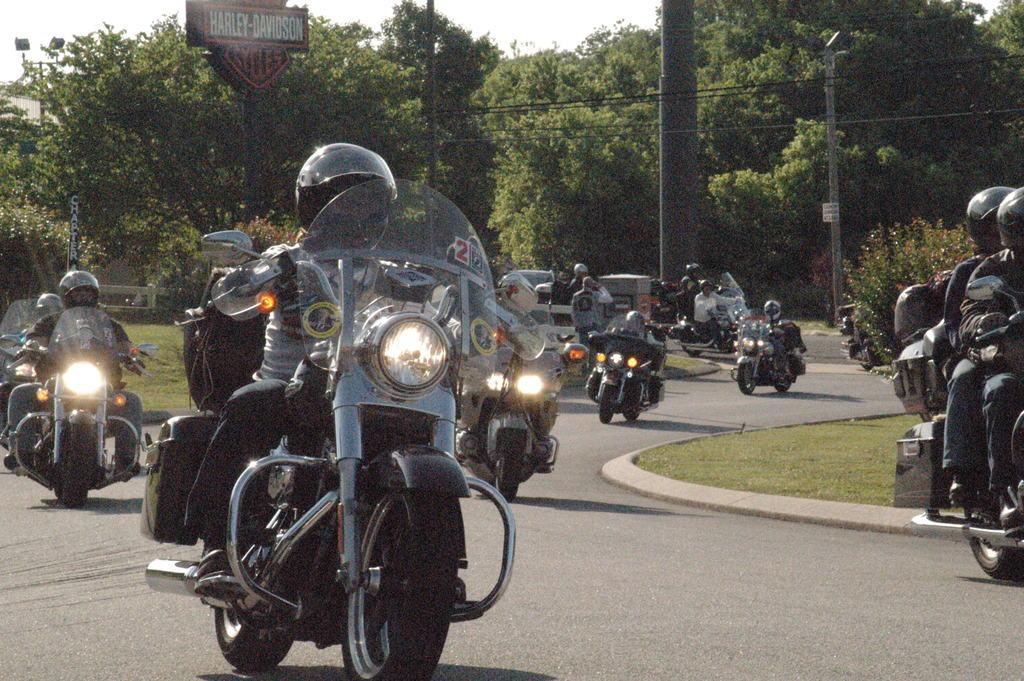helmet: (295, 143, 398, 252), (966, 186, 1024, 257), (58, 270, 99, 316), (624, 310, 645, 335), (764, 300, 781, 321), (685, 262, 701, 281), (573, 263, 589, 276)
